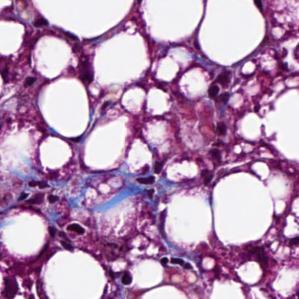inflammation: (16, 176, 62, 207), (46, 222, 86, 253), (206, 66, 236, 107), (131, 161, 173, 188), (156, 251, 202, 273), (62, 221, 90, 240)
